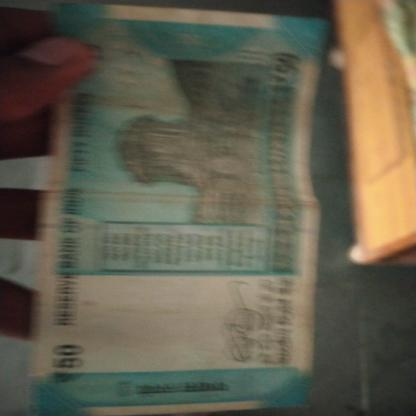New50Back: (49, 14, 309, 415)
